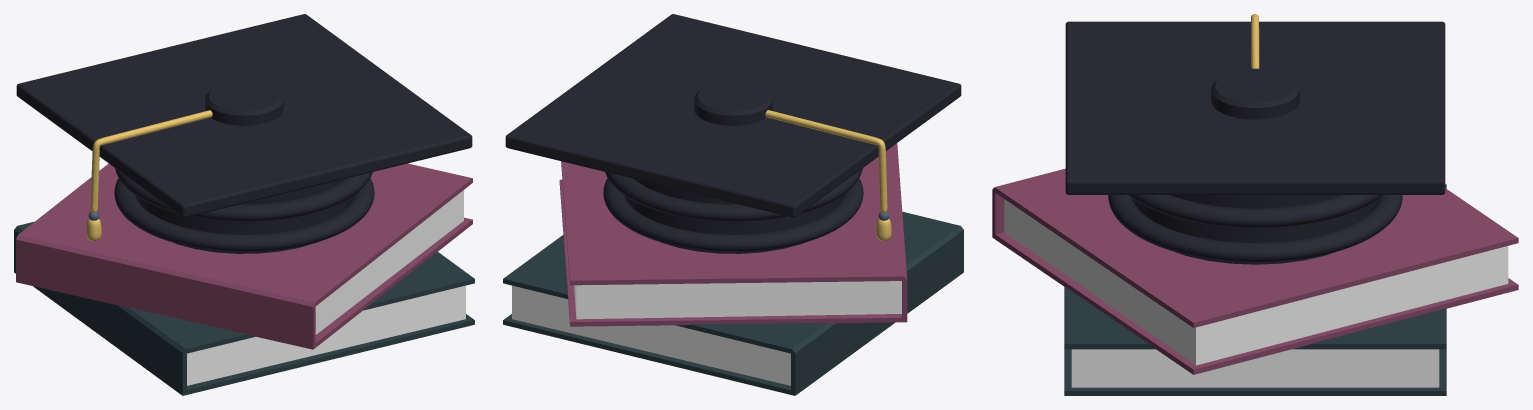
Rendered from education.glb.
The picture shows the model from 3 angles, left to right: view 1: azimuth 30°, elevation 25°; view 2: azimuth 150°, elevation 25°; view 3: azimuth 270°, elevation 25°; orthographic projection. The views are drawn at different scales.
Visible parts, largest first — view 1: Cylinder.001_4, Cube.001_3, Cube_0, Vert.001_6; view 2: Cylinder.001_4, Cube.001_3, Cube_0, Vert.001_6; view 3: Cylinder.001_4, Cube.001_3, Cube_0, Vert.001_6.
Boxes of the visible parts, x1,y1,x2,y2 form: Cylinder.001_4: (16,14,472,253); Cube.001_3: (16,163,472,349); Cube_0: (14,221,474,395); Vert.001_6: (86,110,212,241); Cylinder.001_4: (505,14,961,253); Cube.001_3: (559,143,907,326); Cube_0: (503,211,963,395); Vert.001_6: (765,110,891,241); Cylinder.001_4: (1065,21,1445,264); Cube.001_3: (992,168,1518,374); Cube_0: (1064,184,1446,395); Vert.001_6: (1251,14,1259,68).
Bounding box in the file's own units: 2.75 × 1.33 × 2.75.
